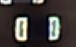COMP: (8, 11, 66, 45)
GAP: (14, 1, 46, 26)
